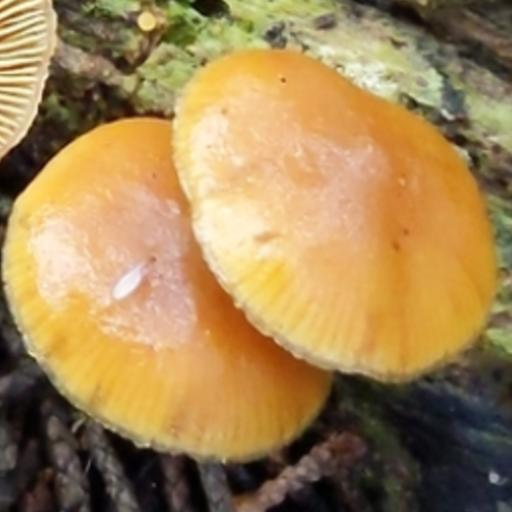mushroom: (16, 44, 493, 459)
